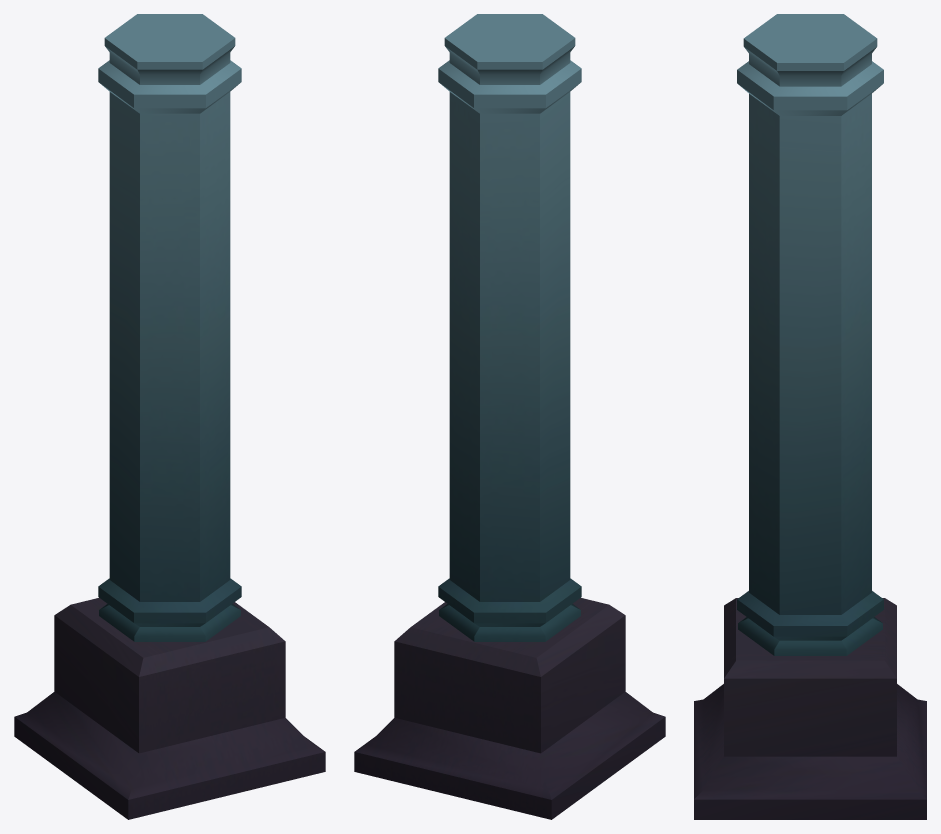
The model's file is Säule.fbx.
The picture shows the model from 3 angles, left to right: view 1: azimuth 30°, elevation 25°; view 2: azimuth 150°, elevation 25°; view 3: azimuth 270°, elevation 25°; orthographic projection. The views are drawn at different scales.
Visible parts, largest first — view 1: Säule; view 2: Säule; view 3: Säule.
Part boxes in pixels (left/top/right/bottom): Säule: left=14, top=14, right=325, bottom=819; Säule: left=354, top=14, right=665, bottom=819; Säule: left=694, top=14, right=926, bottom=819.
Size of the model in its own units: 4.55 by 15.8 by 4.55.
